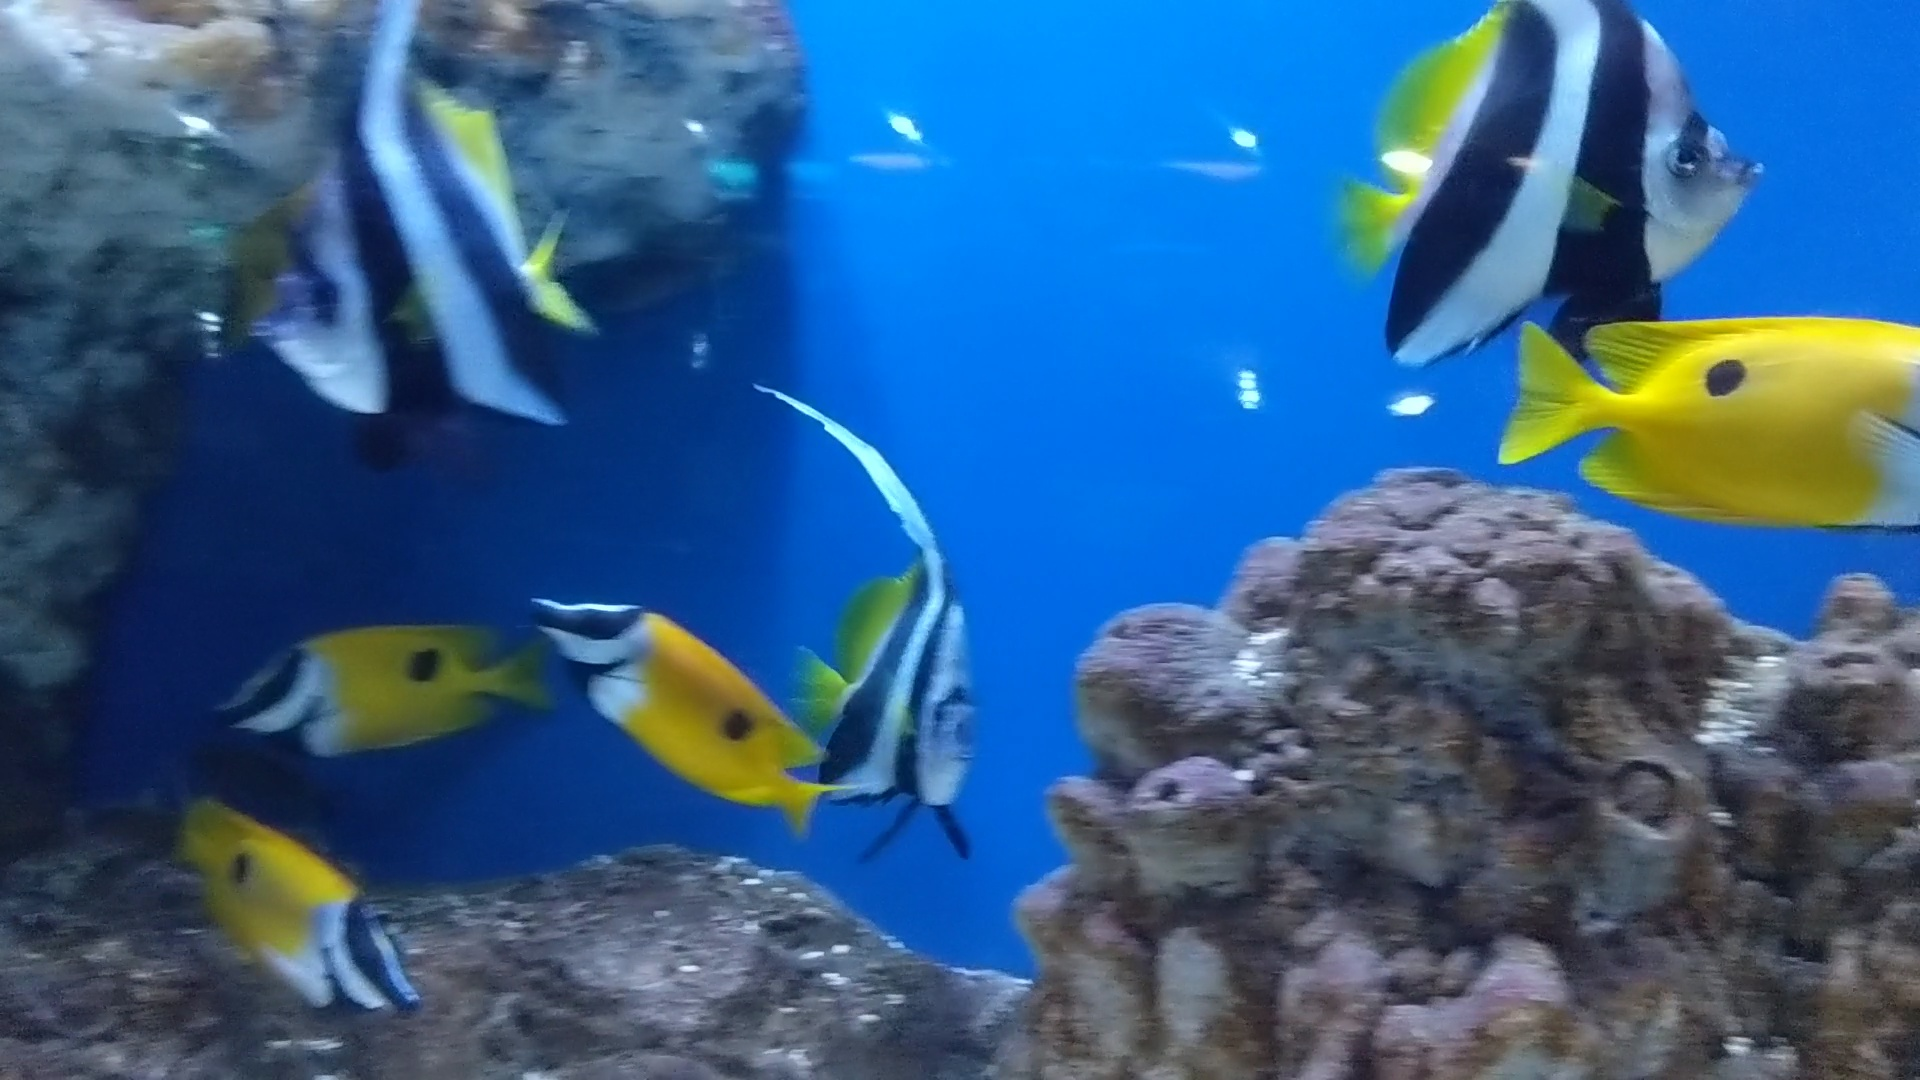moorfish: (220, 7, 603, 456), (1335, 0, 1733, 352), (735, 378, 1002, 839)
rabbitfish: (1485, 290, 1919, 514), (158, 556, 553, 762), (545, 588, 812, 839), (162, 816, 413, 1014)
